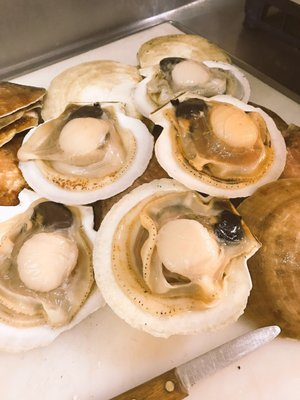sandwich: (105, 325, 282, 400)
